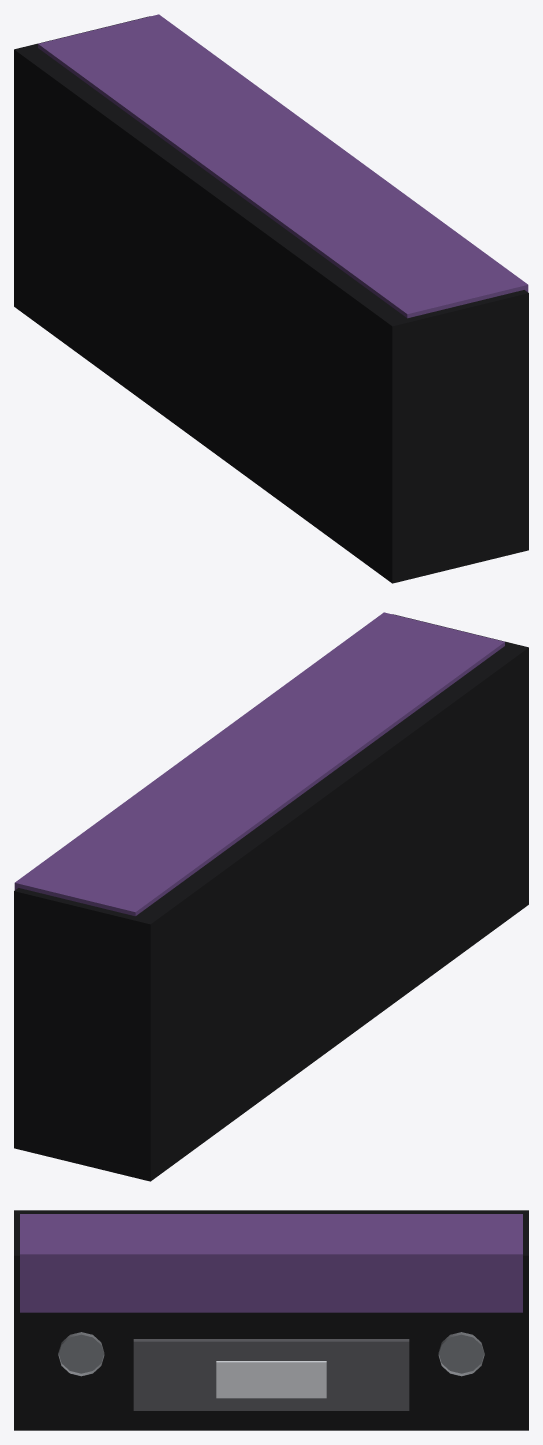
Rendered from front_bumper.obj.
3 renders of one model, top to bottom at view 1: azimuth 30°, elevation 25°; view 2: azimuth 150°, elevation 25°; view 3: azimuth 270°, elevation 25°, orthographic. The views are drawn at different scales.
Visible parts, largest first — view 1: Front_Bumper; view 2: Front_Bumper; view 3: Front_Bumper.
Boxes of the visible parts, x1,y1,x2,y2 form: Front_Bumper: (14, 14, 528, 583); Front_Bumper: (14, 612, 528, 1181); Front_Bumper: (14, 1210, 528, 1430).
Bounding box in the file's own units: 0.38 × 0.64 × 1.68.
